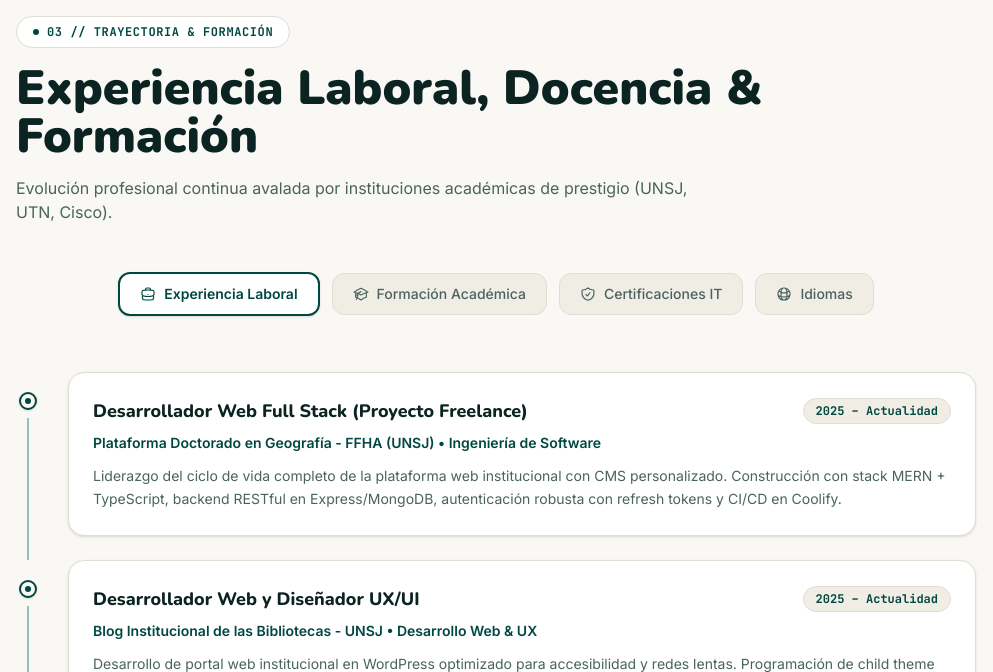
Test case: TimelineSection › switches tab to Certificaciones IT and updates items
The width and height of the screenshot is (993, 672).
Step 1. Click the button "Certificaciones IT" → (651, 294), box [559,273,743,315]
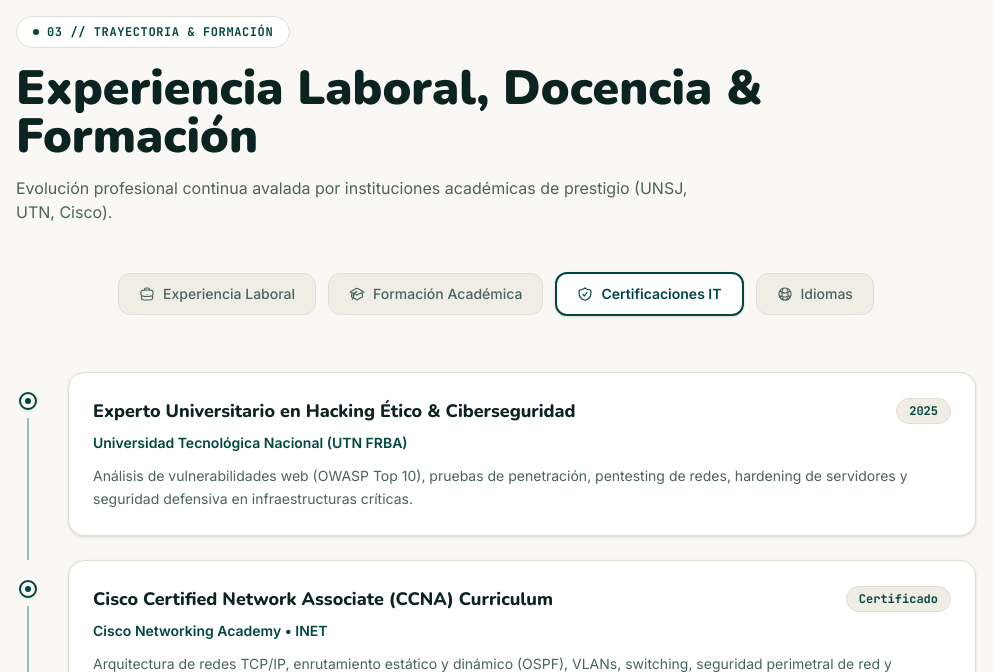
Check: the heading "Experto Universitario en Hacking Ético & Ciberseguridad" is shown, box [93,397,576,425]
Check: the heading "Cisco Certified Network Associate (CCNA) Curriculum" is shown, box [93,584,553,612]
